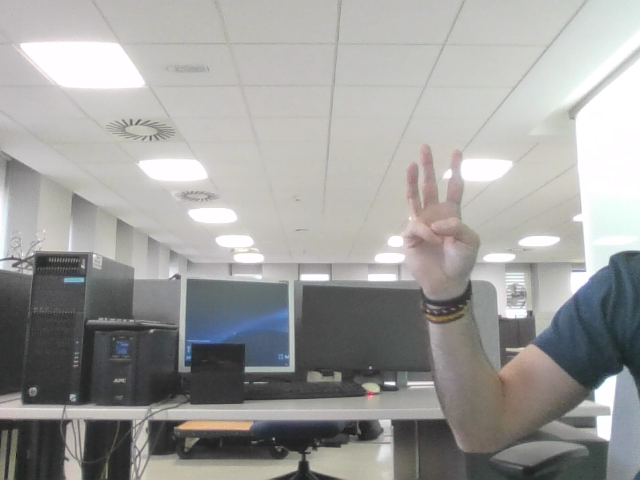3Dedos: (413, 155, 469, 260)
